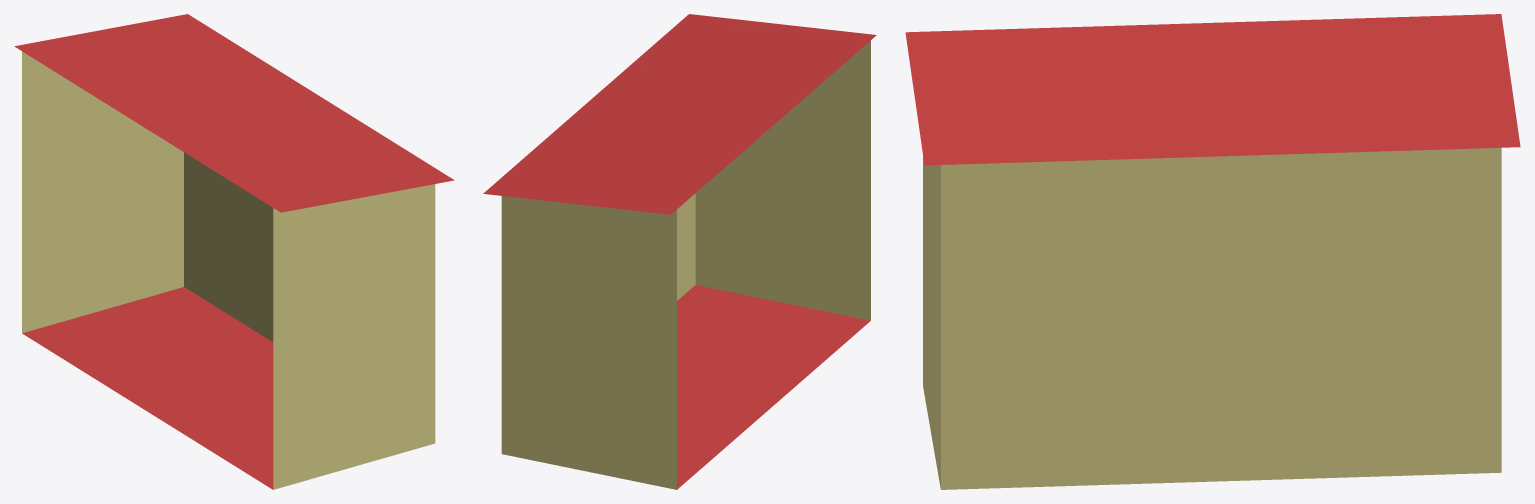
The picture shows the model from 3 angles, left to right: view 1: azimuth 30°, elevation 25°; view 2: azimuth 150°, elevation 25°; view 3: azimuth 270°, elevation 25°; orthographic projection. The views are drawn at different scales.
Size of the model in its own units: 4.34 by 8.72 by 5.54.
